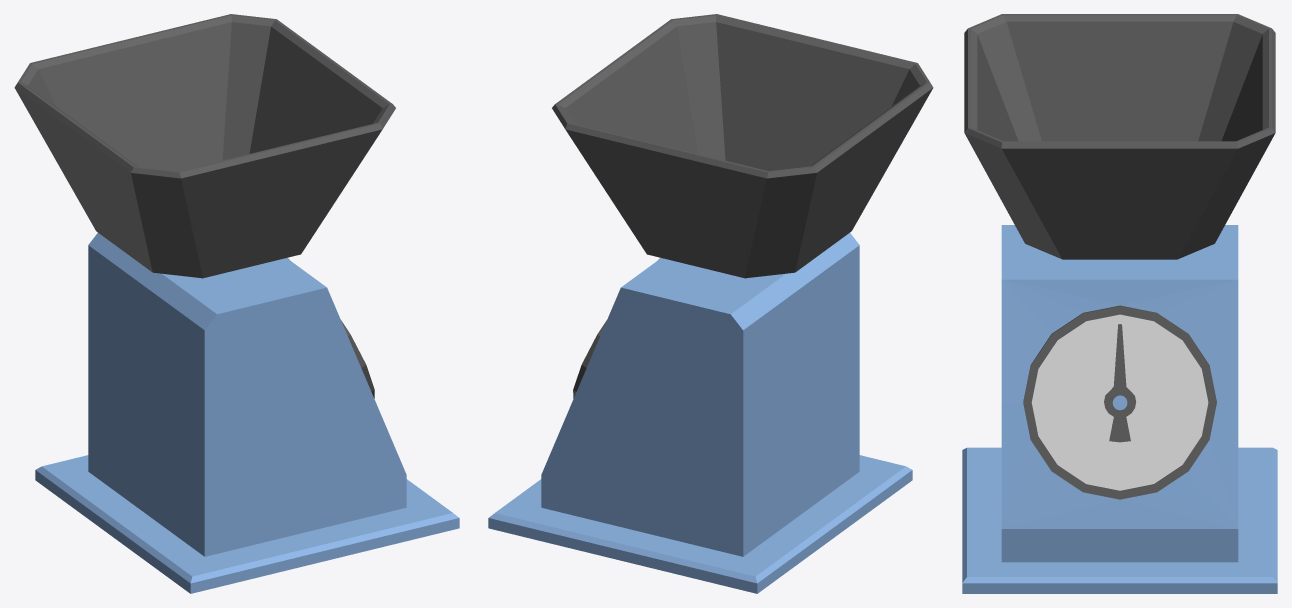
Rendered from scale.glb.
3 renders of one model, left to right at view 1: azimuth 30°, elevation 25°; view 2: azimuth 150°, elevation 25°; view 3: azimuth 270°, elevation 25°, orthographic.
Visible parts, largest first — view 1: Base, Tray; view 2: Base, Tray; view 3: Base, Tray, Cylinder.
Boxes of the visible parts, left/top/right/bottom form: Base: left=35, top=233, right=459, bottom=593; Tray: left=14, top=14, right=395, bottom=278; Base: left=488, top=233, right=912, bottom=593; Tray: left=552, top=14, right=933, bottom=278; Base: left=962, top=225, right=1277, bottom=593; Tray: left=964, top=14, right=1275, bottom=259; Cylinder: left=1104, top=324, right=1135, bottom=442.
Size of the model in its own units: 0.23 by 0.2995 by 0.2.
